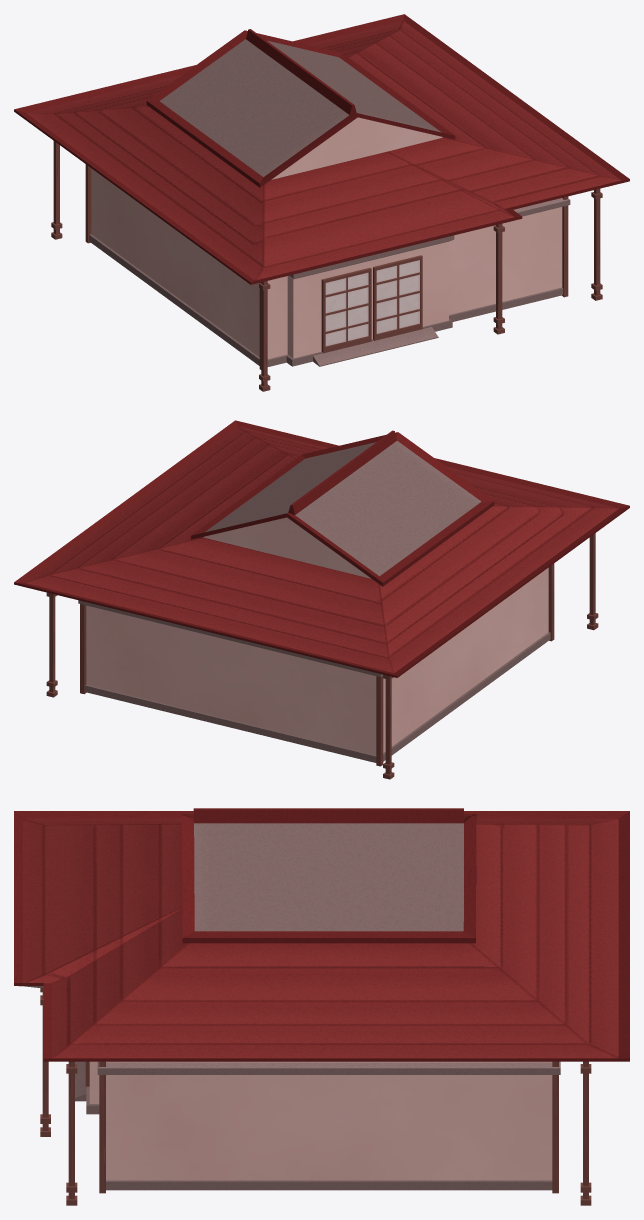
The model's file is House_1_Red.fbx.
3 views of the same model, one above another, from view 1: azimuth 30°, elevation 25°; view 2: azimuth 150°, elevation 25°; view 3: azimuth 270°, elevation 25° (orthographic). The views are drawn at different scales.
Visible parts, largest first — view 1: House; view 2: House; view 3: House.
Boxes of the visible parts, <box> form: House: <box>14,14,629,391</box>; House: <box>14,420,629,779</box>; House: <box>14,808,629,1205</box>.
Size of the model in its own units: 1185 by 604 by 1245.
Materials: 1 (1 with a texture image).
